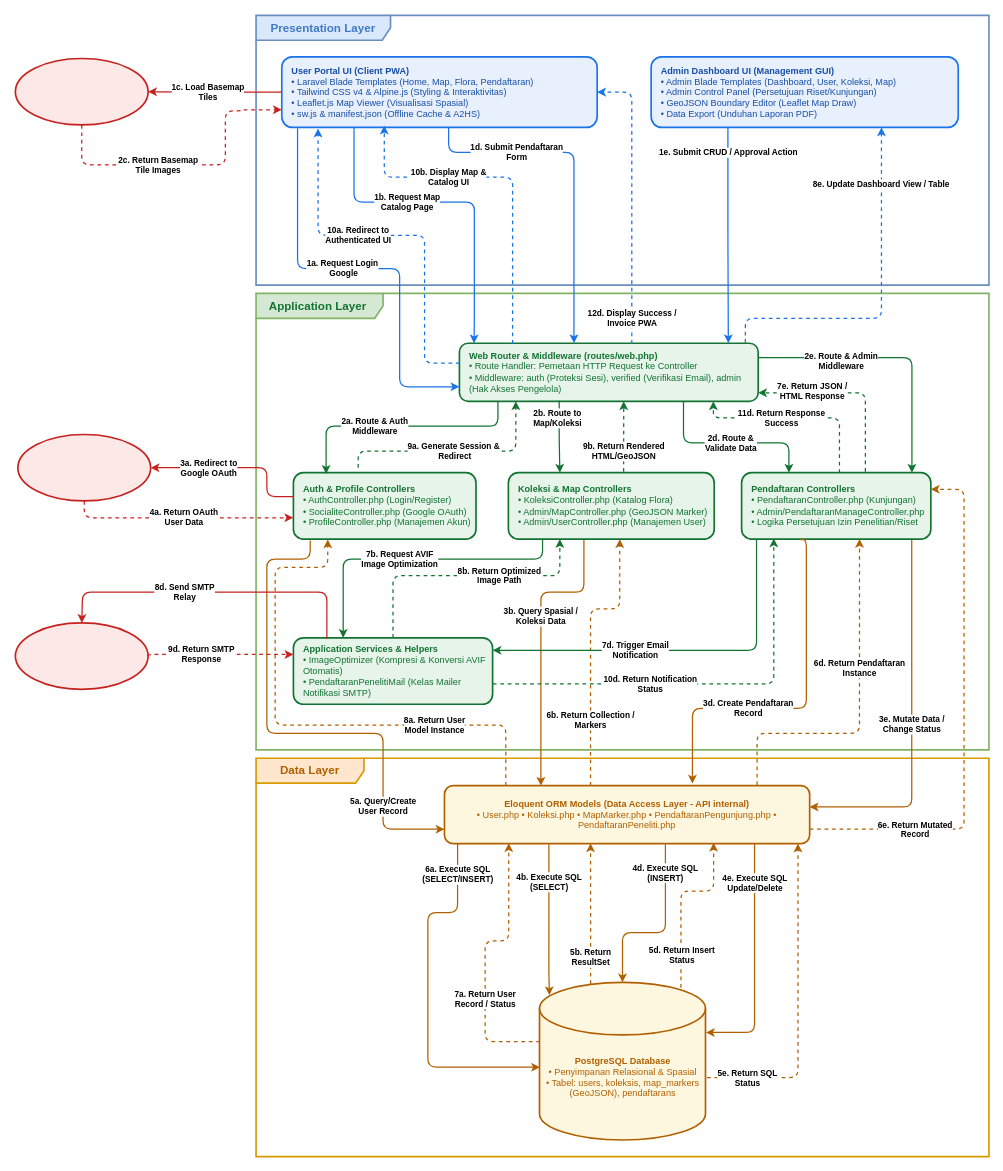
Image size: 1003x1171. Some labels were removed from this diagram. The centre of each missing label's shape, as x and y in pixels:
Google OAuth API (Laravel Socialite): (x=84, y=467)
OpenStreetMap Basemap Tiles: (x=81, y=91)
SMTP Gmail Server (Notifikasi Admin): (x=81, y=656)
